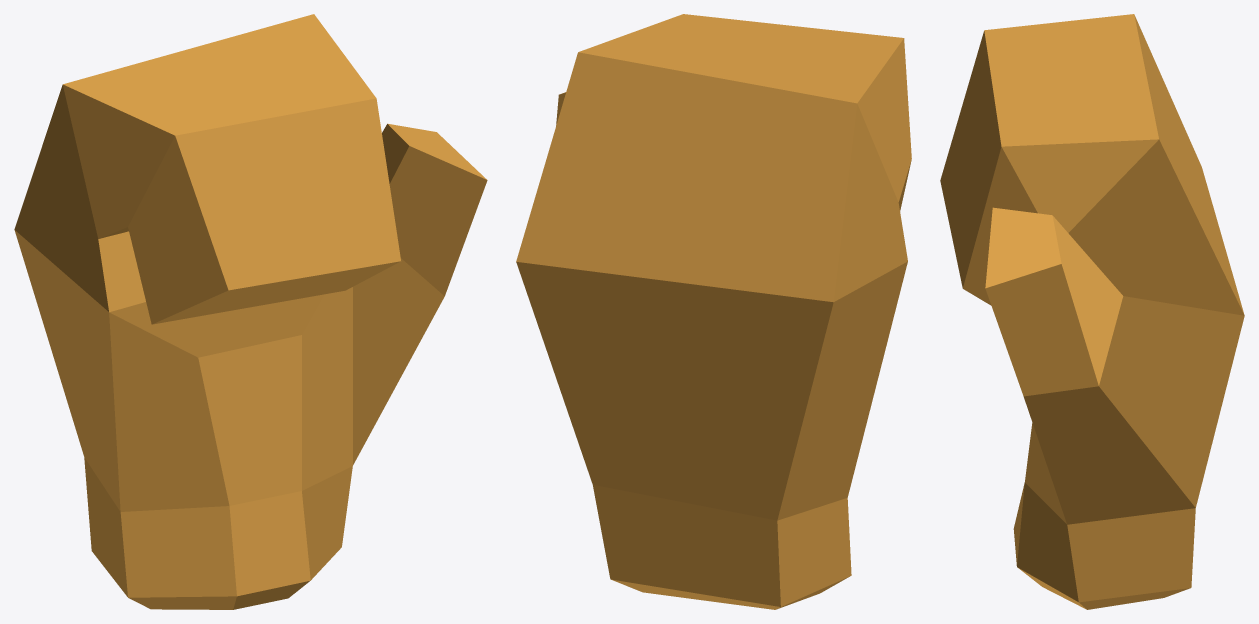
The model's file is sport-box-glove.glb.
3 renders of one model, left to right at view 1: azimuth 30°, elevation 25°; view 2: azimuth 150°, elevation 25°; view 3: azimuth 270°, elevation 25°, orthographic. The views are drawn at different scales.
Visible parts, largest first — view 1: box-glove; view 2: box-glove; view 3: box-glove.
Boxes of the visible parts, x1,y1,x2,y2 form: box-glove: (14,14,487,609); box-glove: (516,14,911,609); box-glove: (940,14,1244,609).
Bounding box in the file's own units: 0.1946 × 0.272 × 0.152.
